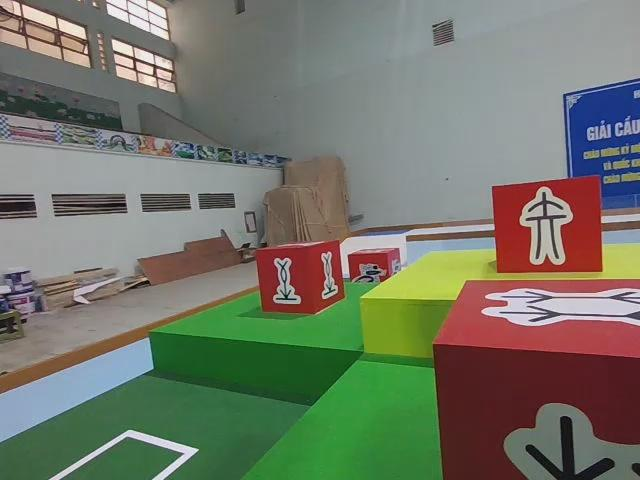R1: (345, 244, 403, 290)
R2 Fake: (489, 171, 606, 275)
R2 Real: (429, 273, 640, 480), (253, 236, 346, 315)
